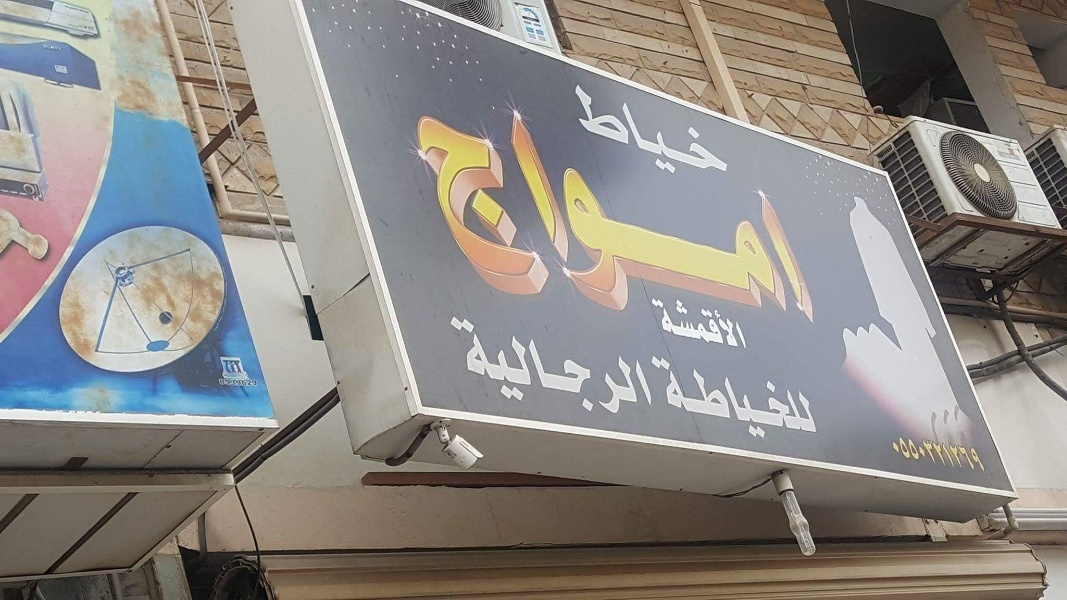text: (417, 81, 432, 334), (433, 81, 448, 334), (449, 81, 464, 334), (465, 81, 480, 334), (481, 81, 496, 334), (497, 81, 512, 334), (513, 81, 528, 334), (529, 81, 544, 334), (545, 81, 560, 334), (561, 81, 576, 334), (577, 81, 592, 334), (593, 81, 608, 334), (609, 81, 624, 334), (625, 81, 640, 334), (641, 81, 656, 334), (657, 81, 672, 334), (673, 81, 688, 334), (689, 81, 704, 334), (705, 81, 720, 334), (721, 81, 736, 334), (737, 81, 752, 334), (753, 81, 768, 334), (769, 81, 784, 334), (785, 81, 800, 334), (801, 81, 816, 334), (817, 81, 827, 334), (408, 81, 416, 334), (577, 79, 592, 193), (593, 79, 608, 193), (609, 79, 624, 193), (625, 79, 640, 193), (641, 79, 656, 193), (657, 79, 672, 193), (673, 79, 688, 193), (689, 79, 704, 193), (705, 79, 720, 193), (465, 314, 480, 424), (481, 314, 496, 424), (497, 314, 512, 424), (513, 314, 528, 424), (529, 314, 544, 424), (545, 314, 560, 424), (561, 314, 576, 424), (577, 314, 592, 424), (593, 314, 608, 424), (609, 314, 624, 424), (625, 314, 640, 424), (641, 314, 656, 424), (450, 314, 464, 424), (657, 352, 672, 445), (673, 352, 688, 445), (689, 352, 704, 445), (705, 352, 720, 445), (721, 352, 736, 445), (737, 352, 752, 445), (753, 352, 768, 445), (769, 352, 784, 445), (785, 352, 800, 445), (801, 352, 816, 445), (721, 79, 732, 193), (657, 292, 672, 351), (673, 292, 688, 351), (689, 292, 704, 351), (705, 292, 720, 351), (721, 292, 736, 351), (569, 79, 576, 193), (737, 292, 750, 351), (648, 352, 656, 445), (657, 314, 663, 424), (897, 433, 912, 473), (913, 433, 928, 473), (929, 433, 944, 473), (945, 433, 960, 473), (961, 433, 976, 473), (817, 352, 823, 445), (977, 433, 989, 473), (648, 292, 656, 351), (886, 433, 896, 473), (225, 377, 240, 387), (241, 377, 256, 387), (216, 377, 224, 387), (257, 377, 258, 387)
